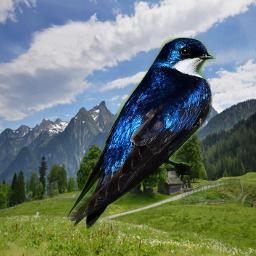Swallow: (65, 37, 216, 230)
